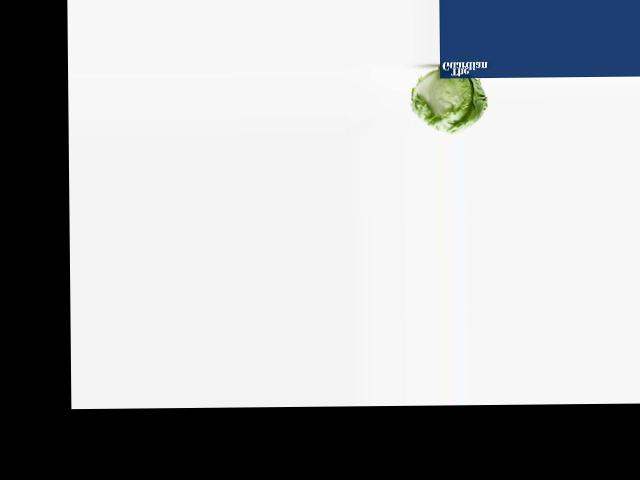lettuce: (411, 69, 485, 137)
